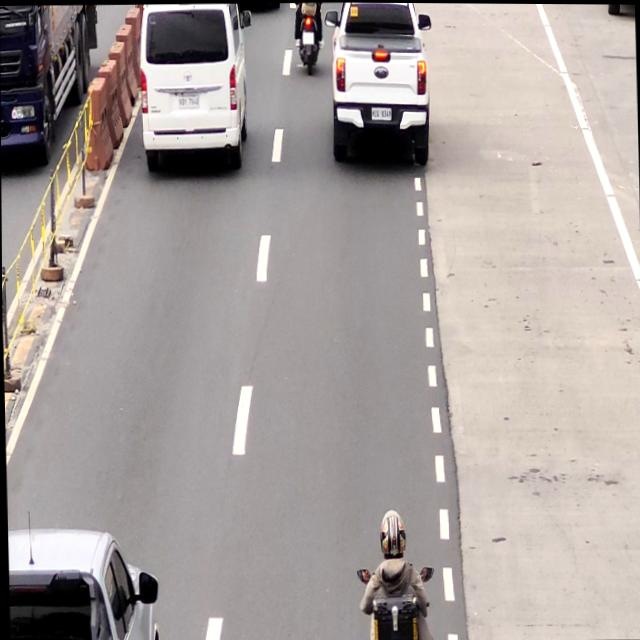Car: (138, 2, 248, 169), (6, 526, 158, 640), (328, 2, 433, 163)
License-Plate: (176, 91, 201, 109), (369, 104, 393, 122)
Motorcycle: (361, 514, 434, 640), (294, 2, 322, 75)
